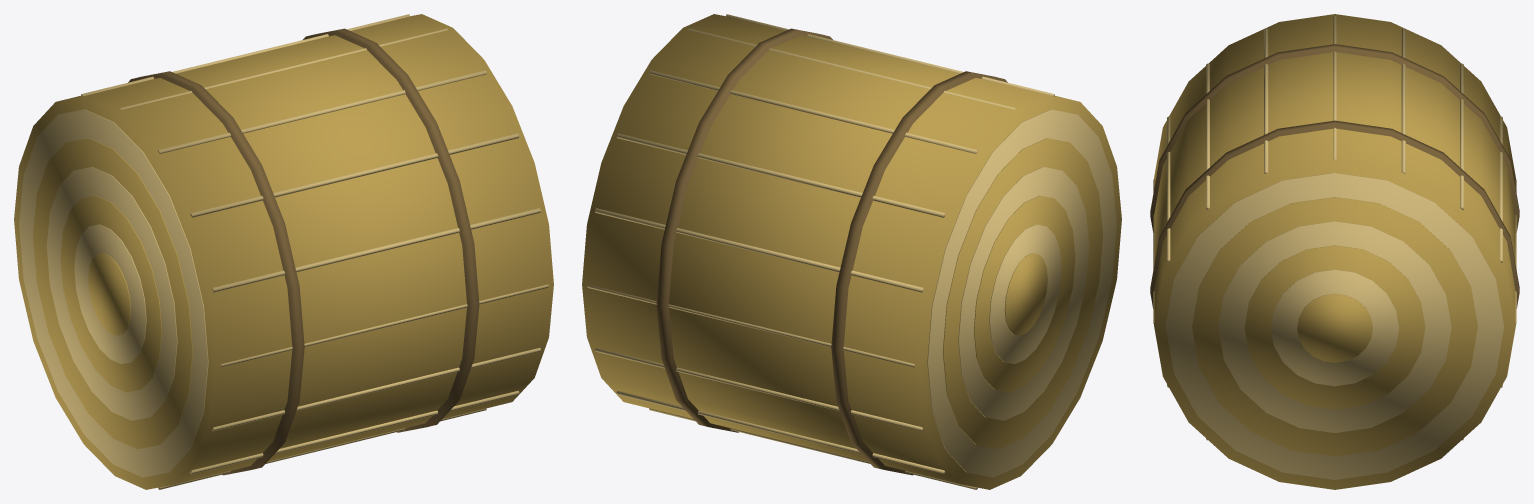
The model's file is HayBale.glb.
3 views of the same model, side by side, from view 1: azimuth 30°, elevation 25°; view 2: azimuth 150°, elevation 25°; view 3: azimuth 270°, elevation 25° (orthographic). The views are drawn at different scales.
Visible parts, largest first — view 1: HayBale; view 2: HayBale; view 3: HayBale.
Part boxes in pixels (x1,y1,x2,y2): HayBale: [14, 14, 553, 489]; HayBale: [582, 14, 1121, 489]; HayBale: [1150, 14, 1519, 489].
Size of the model in its own units: 1.24 by 1.27 by 1.27.
